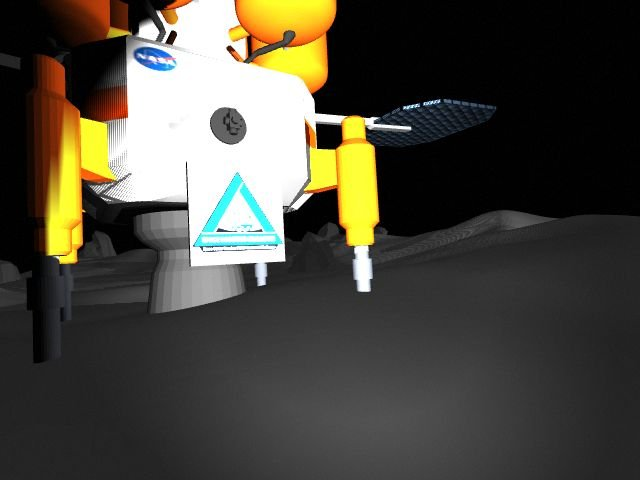basemarker: (191, 170, 284, 254)
